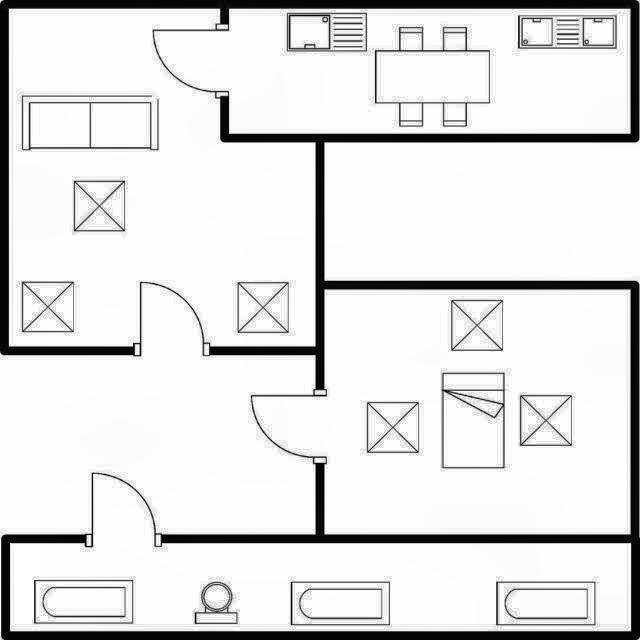room: (9, 9, 316, 346), (325, 290, 630, 533), (9, 545, 630, 629), (229, 9, 630, 132)
